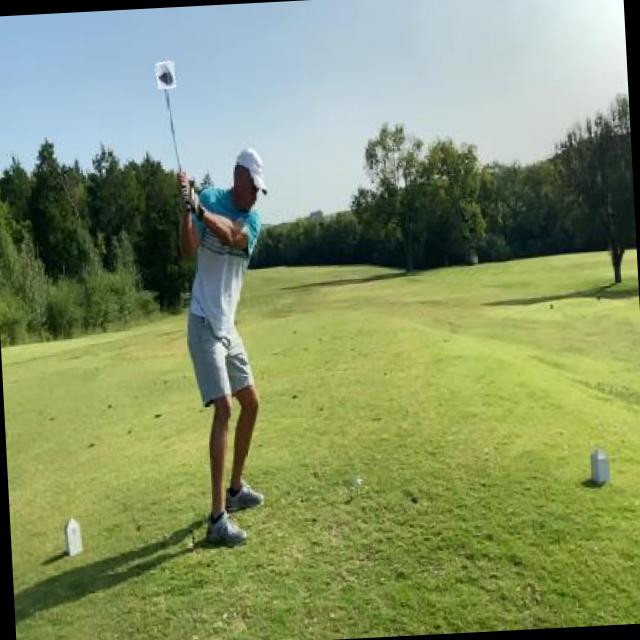club head: (157, 61, 176, 89)
